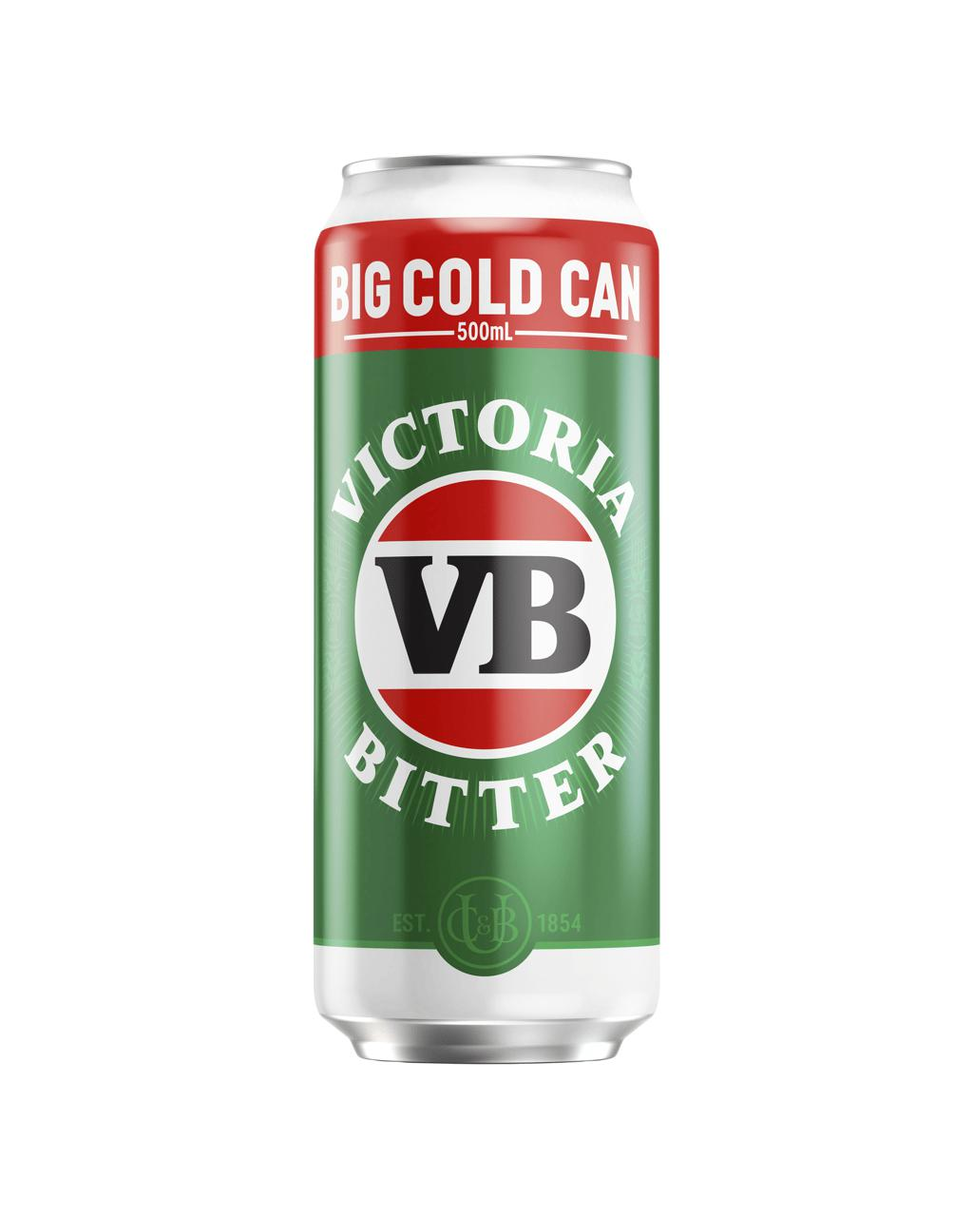cylinder: (315, 156, 661, 1064)
